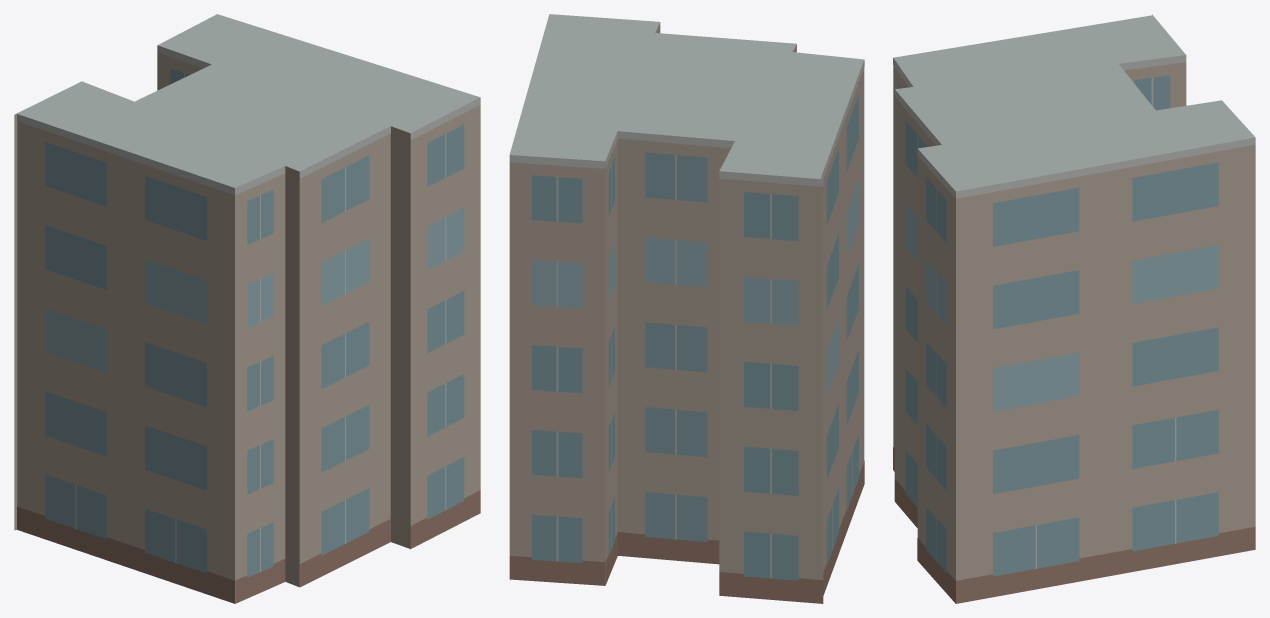
File: survey-upis-32893742.glb
3 views of the same model, side by side, from view 1: azimuth 30°, elevation 25°; view 2: azimuth 150°, elevation 25°; view 3: azimuth 270°, elevation 25° (orthographic). The views are drawn at different scales.
Visible parts, largest first — view 1: survey-upis-32893742.tmp; view 2: survey-upis-32893742.tmp; view 3: survey-upis-32893742.tmp.
Boxes of the visible parts, x1,y1,x2,y2 form: survey-upis-32893742.tmp: (14,14,480,603); survey-upis-32893742.tmp: (509,14,864,603); survey-upis-32893742.tmp: (893,14,1255,603).
Bounding box in the file's own units: 12.86 × 13.9 × 11.08.
